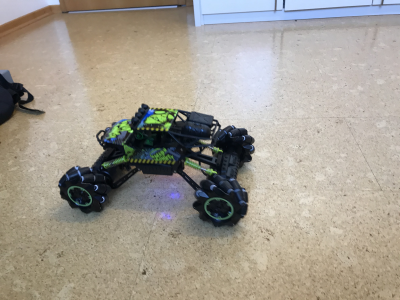remote control car: (57, 101, 257, 229)
